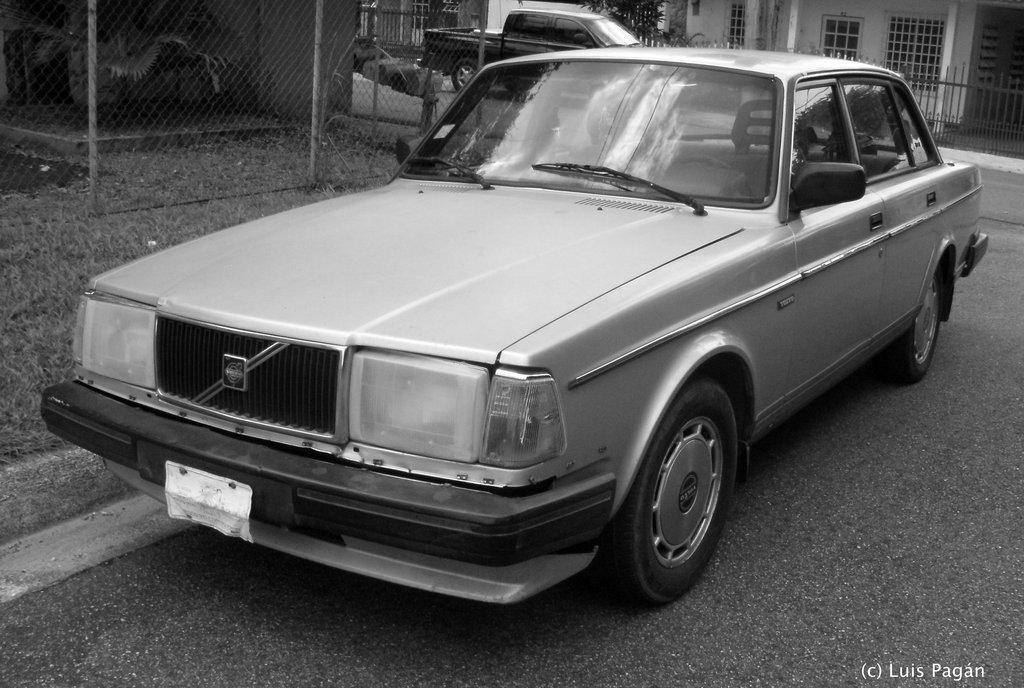car: (39, 44, 997, 631)
